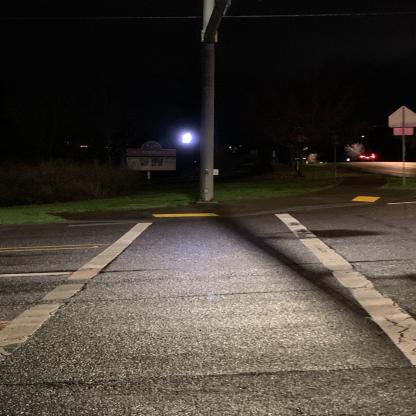Walk: (176, 128, 198, 146)
